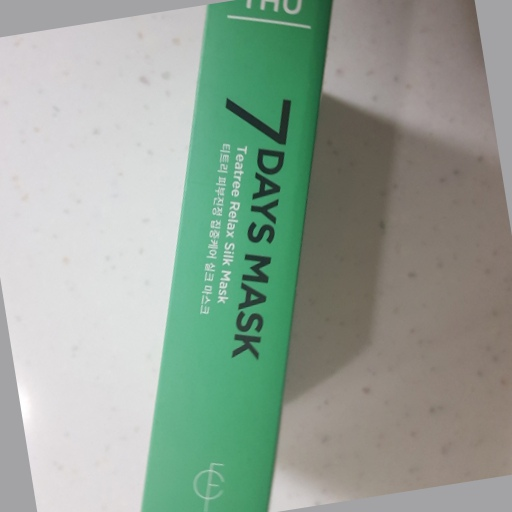Paper_0: (139, 1, 339, 512)
